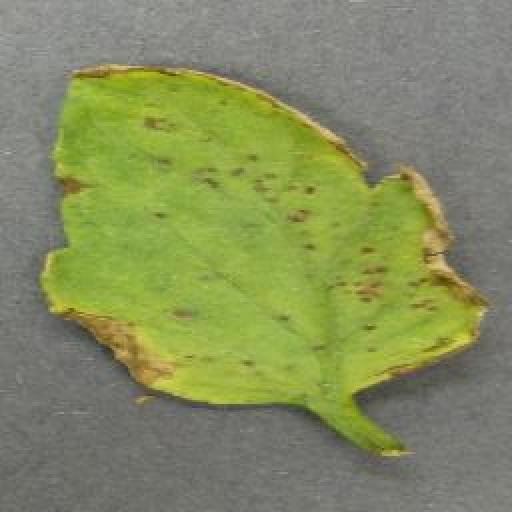Bacterial Spot: (28, 53, 493, 416)
